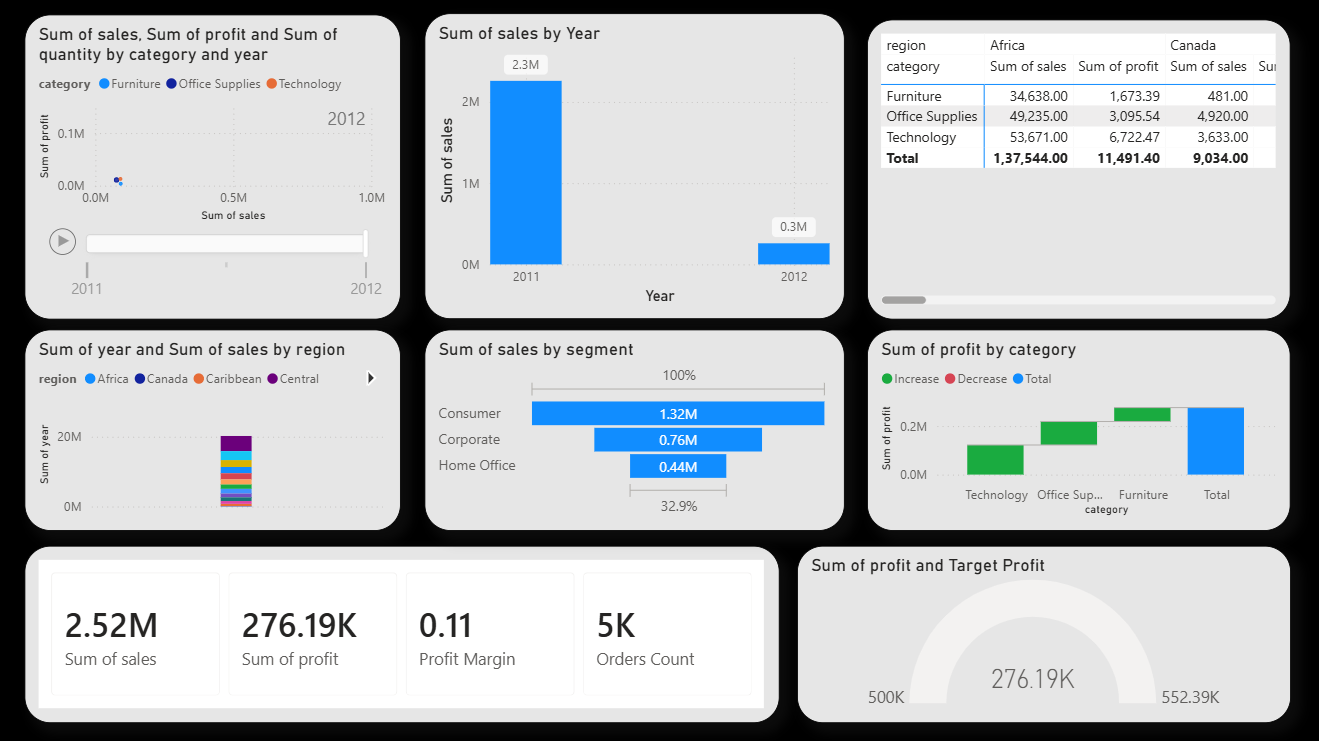

The page's visual inventory and layout, read from the dashboard file:
{"tool":"powerbi","page":{"name":"Page 1","canvas":[1280,720],"ordinal":0},"visuals":[{"type":"scatterChart","fields":{"X":["Sum(superstore_db superstore.sales)"],"Y":["Sum(superstore_db superstore.profit)"],"Size":["Sum(superstore_db superstore.quantity)"],"Series":["superstore_db superstore.category"],"Play":["superstore_db superstore.year"]},"box":[26.5,16.9,363.1,294.4],"z":0},{"type":"lineStackedColumnComboChart","fields":{"Category":["superstore_db superstore.order_date.Variation.Date Hierarchy.Year","superstore_db superstore.order_date.Variation.Date Hierarchy.Quarter","superstore_db superstore.order_date.Variation.Date Hierarchy.Month","superstore_db superstore.order_date.Variation.Date Hierarchy.Day"],"Y":["Sum(superstore_db superstore.sales)"]},"box":[412.6,15.7,405.4,295.6],"z":1000},{"type":"ribbonChart","fields":{"Y":["Sum(superstore_db superstore.year)"],"Series":["superstore_db superstore.region"]},"box":[26.5,320.9,363.1,194.2],"z":2000},{"type":"cardVisual","fields":{"Data":["Sum(superstore_db superstore.sales)","Sum(superstore_db superstore.profit)","superstore_db superstore.Profit Margin","superstore_db superstore.Orders Count"]},"box":[26.5,529.6,728.7,171.3],"z":3000},{"type":"pivotTable","fields":{"Rows":["superstore_db superstore.category"],"Columns":["superstore_db superstore.region"],"Values":["Sum(superstore_db superstore.sales)","Sum(superstore_db superstore.profit)"]},"box":[839.7,21.7,409,289.5],"z":4000},{"type":"waterfallChart","fields":{"Category":["superstore_db superstore.category"],"Y":["Sum(superstore_db superstore.profit)"]},"box":[839.7,320.9,409,194.2],"z":5000},{"type":"funnel","fields":{"Category":["superstore_db superstore.segment"],"Y":["Sum(superstore_db superstore.sales)"]},"box":[412.6,320.9,405.4,194.2],"z":6000},{"type":"gauge","fields":{"Y":["Sum(superstore_db superstore.profit)"],"MinValue":["superstore_db superstore.Target Profit"]},"box":[772.1,529.6,476.5,171.3],"z":7000}]}

Visuals, with their boxes in screenshot pixels (x1, y1, x2, y2), scaled from the page's 1280x720 canvas onto the 1319x741 screenshot:
scatterChart - Sum(superstore_db superstore.sales) x Sum(superstore_db superstore.profit): <box>27,17,401,320</box>
lineStackedColumnComboChart - superstore_db superstore.order_date.Variation.Date Hierarchy.Year x superstore_db superstore.order_date.Variation.Date Hierarchy.Quarter: <box>425,16,843,320</box>
ribbonChart - Sum(superstore_db superstore.year) x superstore_db superstore.region: <box>27,330,401,530</box>
cardVisual - Sum(superstore_db superstore.sales) x Sum(superstore_db superstore.profit): <box>27,545,778,721</box>
pivotTable - superstore_db superstore.category x superstore_db superstore.region: <box>865,22,1287,320</box>
waterfallChart - superstore_db superstore.category x Sum(superstore_db superstore.profit): <box>865,330,1287,530</box>
funnel - superstore_db superstore.segment x Sum(superstore_db superstore.sales): <box>425,330,843,530</box>
gauge - Sum(superstore_db superstore.profit) x superstore_db superstore.Target Profit: <box>796,545,1287,721</box>
